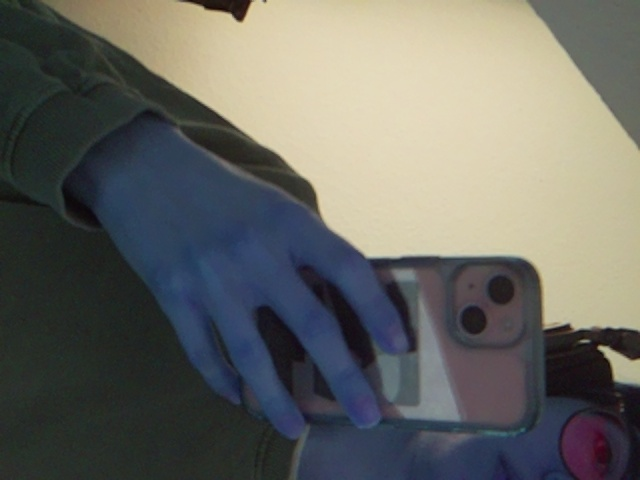cell phone: (248, 258, 538, 419)
